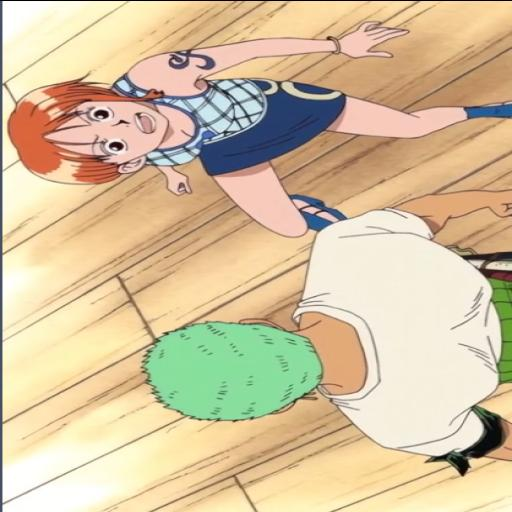Nami: (7, 14, 512, 236)
Zoro: (145, 182, 512, 469)
